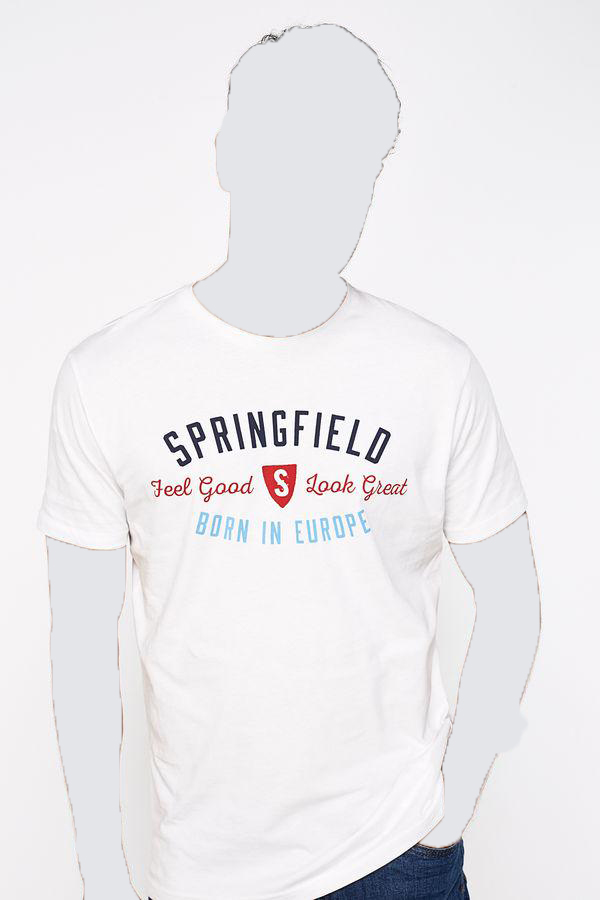teeshirt: (30, 278, 530, 892)
